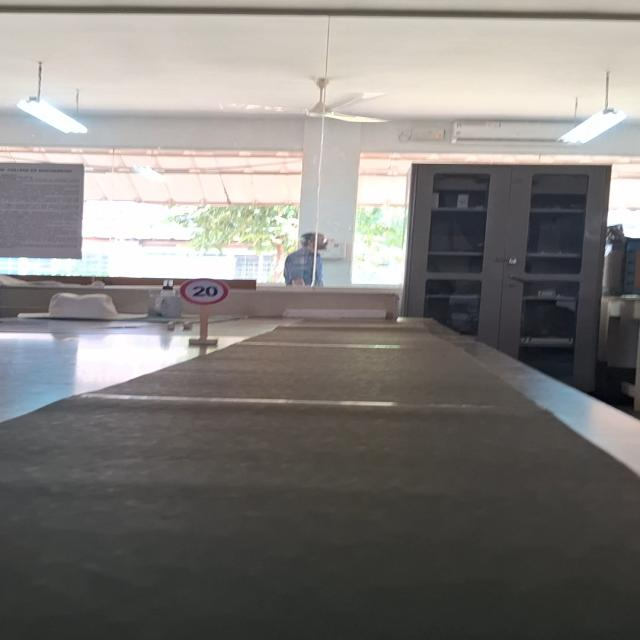Speed20: (178, 276, 231, 306)
